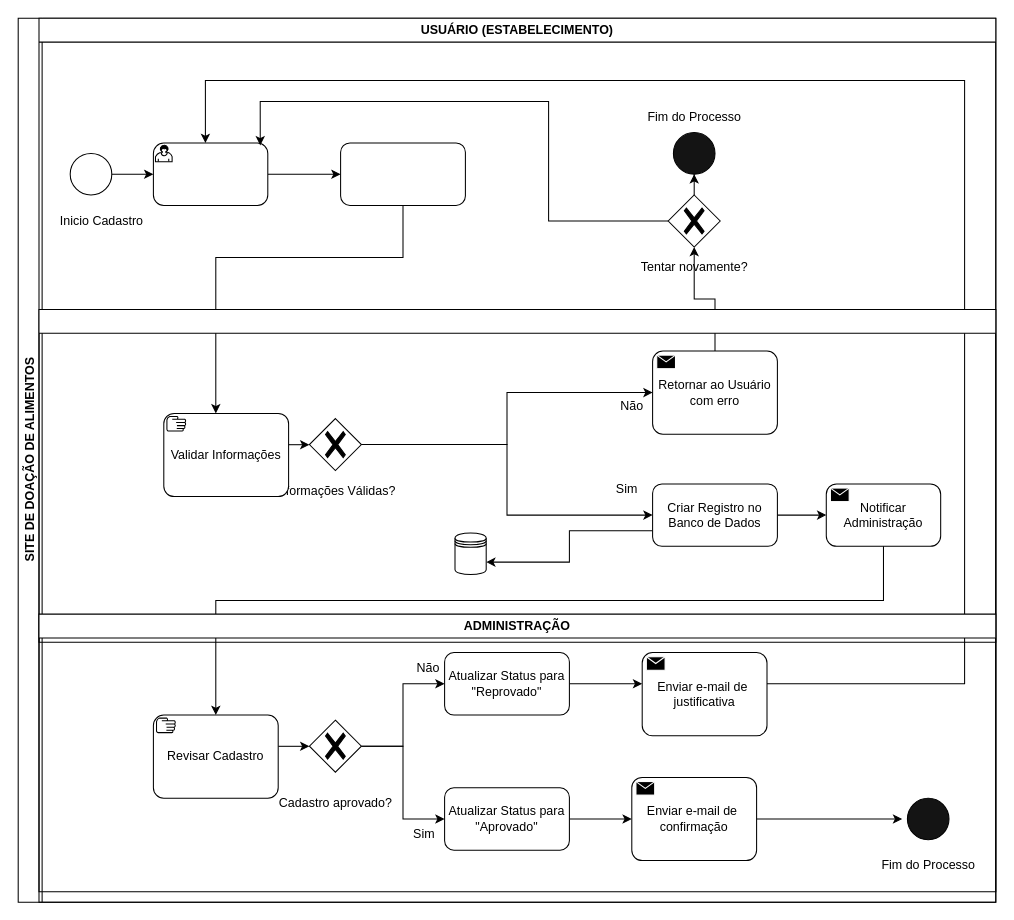
Image size: 1014x920. Some labels were removed from this diagram. The shapes that lost their labels are listed below. From the top down, each one's centre as x and y in pixels, then its label:
point (210, 173): Preencher Formulário de Cadastro
point (402, 173): Enviar Formulário
point (517, 475): SISTEMA
